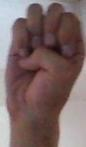E: (0, 1, 86, 112)
